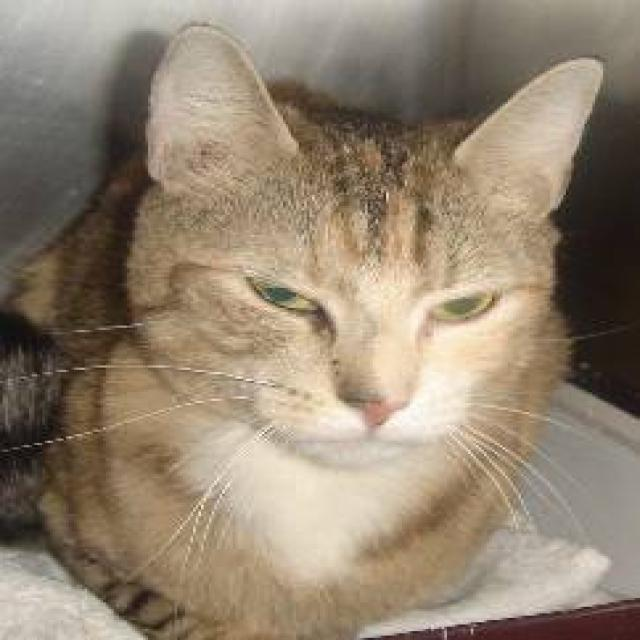cat: (0, 20, 629, 638)
